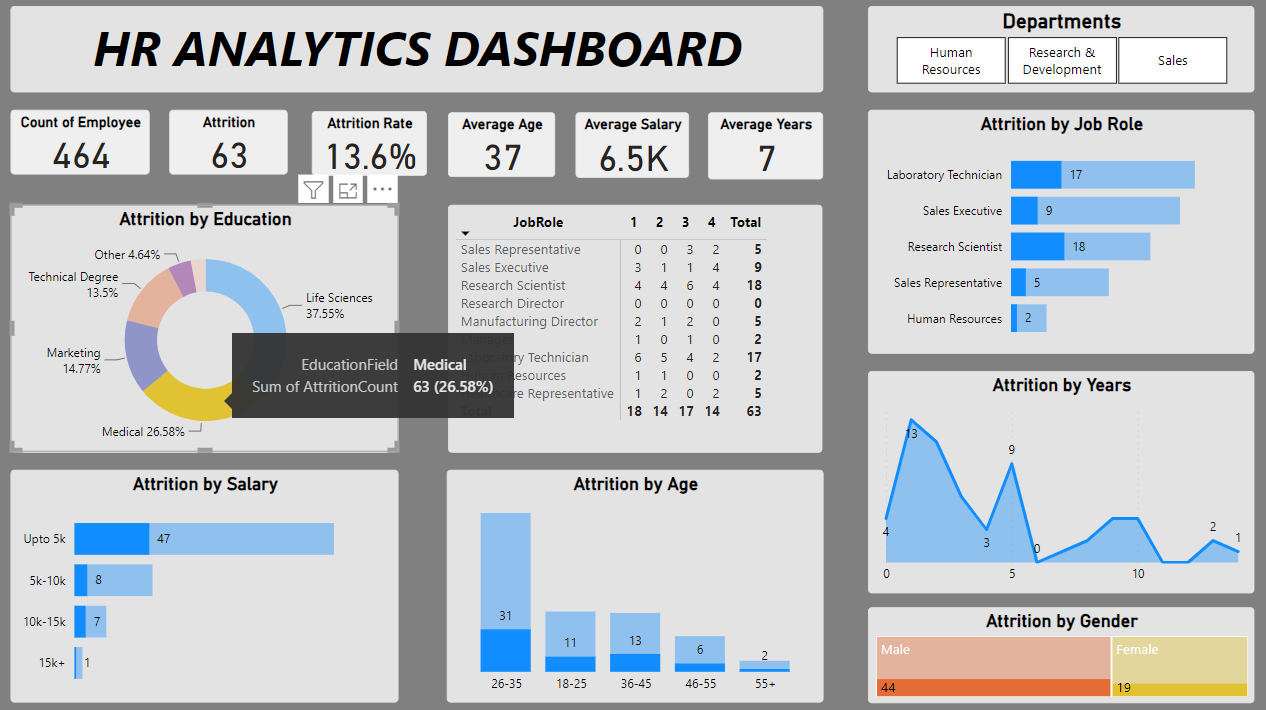

This screenshot's page, from the dashboard's own definition file:
{"tool":"powerbi","page":{"name":"Page 1","canvas":[1280,720],"ordinal":0},"visuals":[{"type":"card","title":"Count of Employee","fields":{"Values":["CountNonNull(HR_Analytics.EmpID)"]},"box":[17,113.8,139.4,64.9],"z":0},{"type":"card","title":"Attrition","fields":{"Values":["Sum(HR_Analytics.AttritionCount)"]},"box":[176.6,113.8,118.1,64.9],"z":1000},{"type":"card","title":"Attrition Rate","fields":{"Values":["HR_Analytics.AttritionRate"]},"box":[319.1,114.9,114.9,64.9],"z":2000},{"type":"card","title":"Average Age ","fields":{"Values":["Avg(HR_Analytics.Age)"]},"box":[455.3,116,107.4,64.9],"z":3000},{"type":"card","title":"Average Salary","fields":{"Values":["Avg(HR_Analytics.MonthlyIncome)"]},"box":[583,116,113.8,66],"z":4000},{"type":"card","title":"Average Years ","fields":{"Values":["Avg(HR_Analytics.YearsAtCompany)"]},"box":[714.9,116,114.9,67],"z":5000},{"type":"donutChart","title":"Attrition by Education","fields":{"Category":["HR_Analytics.EducationField"],"Y":["Sum(HR_Analytics.AttritionCount)"]},"box":[17,208.5,388.3,247.9],"z":6000},{"type":"columnChart","title":"Attrition by Age","fields":{"Category":["HR_Analytics.AgeGroup"],"Y":["Sum(HR_Analytics.AttritionCount)"]},"box":[453.2,473.4,376.6,233],"z":7000},{"type":"pivotTable","fields":{"Rows":["HR_Analytics.JobRole"],"Columns":["HR_Analytics.JobSatisfaction"],"Values":["Sum(HR_Analytics.AttritionCount)"]},"box":[455.3,208.5,374.5,247.9],"z":8000},{"type":"barChart","title":"Attrition by Salary","fields":{"Category":["HR_Analytics.SalarySlab"],"Y":["Sum(HR_Analytics.AttritionCount)"]},"box":[17,473.4,388.3,233],"z":9000},{"type":"barChart","title":"Attrition by Job Role","fields":{"Category":["HR_Analytics.JobRole"],"Y":["Sum(HR_Analytics.AttritionCount)"]},"box":[875.5,113.8,386.2,243.6],"z":10000},{"type":"areaChart","title":"Attrition by Years","fields":{"Category":["HR_Analytics.YearsAtCompany"],"Y":["Sum(HR_Analytics.AttritionCount)"]},"box":[875,375,386.2,222.5],"z":11000},{"type":"treemap","title":"Attrition by Gender","fields":{"Group":["HR_Analytics.Gender"],"Values":["Sum(HR_Analytics.AttritionCount)"]},"box":[875.5,610.6,386.2,95.7],"z":12000},{"type":"slicer","title":"Departments","fields":{"Values":["HR_Analytics.Department"]},"box":[875.5,9.6,386.2,86.2],"z":13000},{"type":"textbox","box":[17,9.6,812.8,86.2],"z":14000}]}

Visuals, with their boxes in screenshot pixels (x1, y1, x2, y2), scaled from the page's 1280x720 canvas onto the 1266x710 screenshot:
"Count of Employee" card: <bbox>17, 112, 155, 176</bbox>
"Attrition" card: <bbox>175, 112, 291, 176</bbox>
"Attrition Rate" card: <bbox>316, 113, 429, 177</bbox>
"Average Age " card: <bbox>450, 114, 557, 178</bbox>
"Average Salary" card: <bbox>577, 114, 689, 179</bbox>
"Average Years " card: <bbox>707, 114, 821, 180</bbox>
"Attrition by Education" donutChart: <bbox>17, 206, 401, 450</bbox>
"Attrition by Age" columnChart: <bbox>448, 467, 821, 697</bbox>
pivotTable - HR_Analytics.JobRole x HR_Analytics.JobSatisfaction: <bbox>450, 206, 821, 450</bbox>
"Attrition by Salary" barChart: <bbox>17, 467, 401, 697</bbox>
"Attrition by Job Role" barChart: <bbox>866, 112, 1248, 352</bbox>
"Attrition by Years" areaChart: <bbox>865, 370, 1247, 589</bbox>
"Attrition by Gender" treemap: <bbox>866, 602, 1248, 696</bbox>
"Departments" slicer: <bbox>866, 9, 1248, 94</bbox>
textbox: <bbox>17, 9, 821, 94</bbox>
